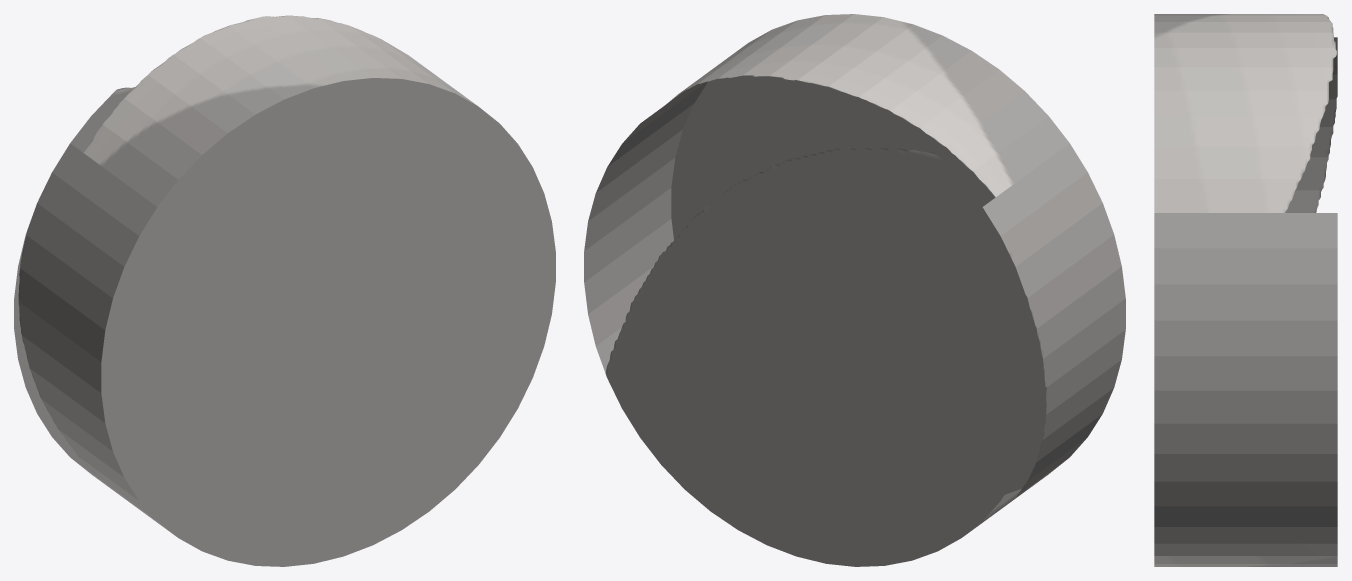
File: gq70_tank_a.obj
3 views of the same model, side by side, from view 1: azimuth 30°, elevation 25°; view 2: azimuth 150°, elevation 25°; view 3: azimuth 270°, elevation 25° (orthographic). The views are drawn at different scales.
Visible parts, largest first — view 1: sphere1; view 2: sphere1; view 3: sphere1.
Part boxes in pixels (bbox=[...]): sphere1: bbox=[14, 15, 555, 566]; sphere1: bbox=[584, 14, 1125, 566]; sphere1: bbox=[1154, 14, 1337, 566].
Size of the model in its own units: 3.01 by 3.01 by 1.
